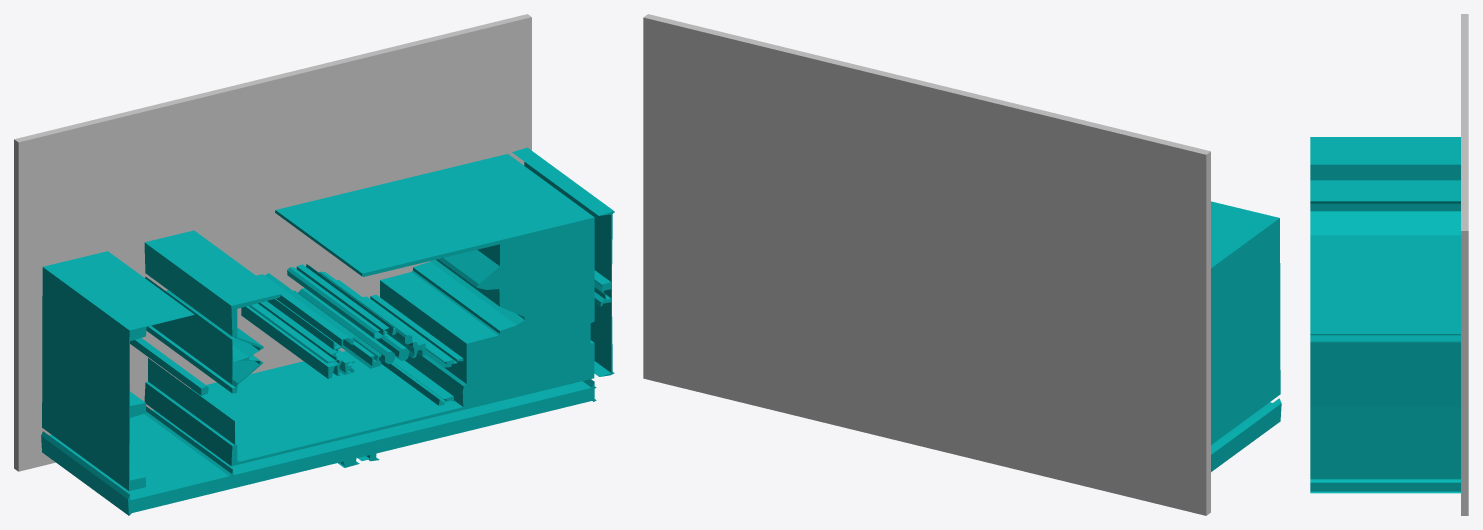
The picture shows the model from 3 angles, left to right: view 1: azimuth 30°, elevation 25°; view 2: azimuth 150°, elevation 25°; view 3: azimuth 270°, elevation 25°; orthographic projection. The views are drawn at different scales.
Parts seen in each view (by area): view 1: world; view 2: world; view 3: world.
Part boxes in pixels (x1,y1,x2,y2): world: [14, 14, 614, 515]; world: [643, 14, 1281, 515]; world: [1310, 14, 1468, 515].
Bounding box in the file's own units: 10.23 × 6.27 × 3.15.
